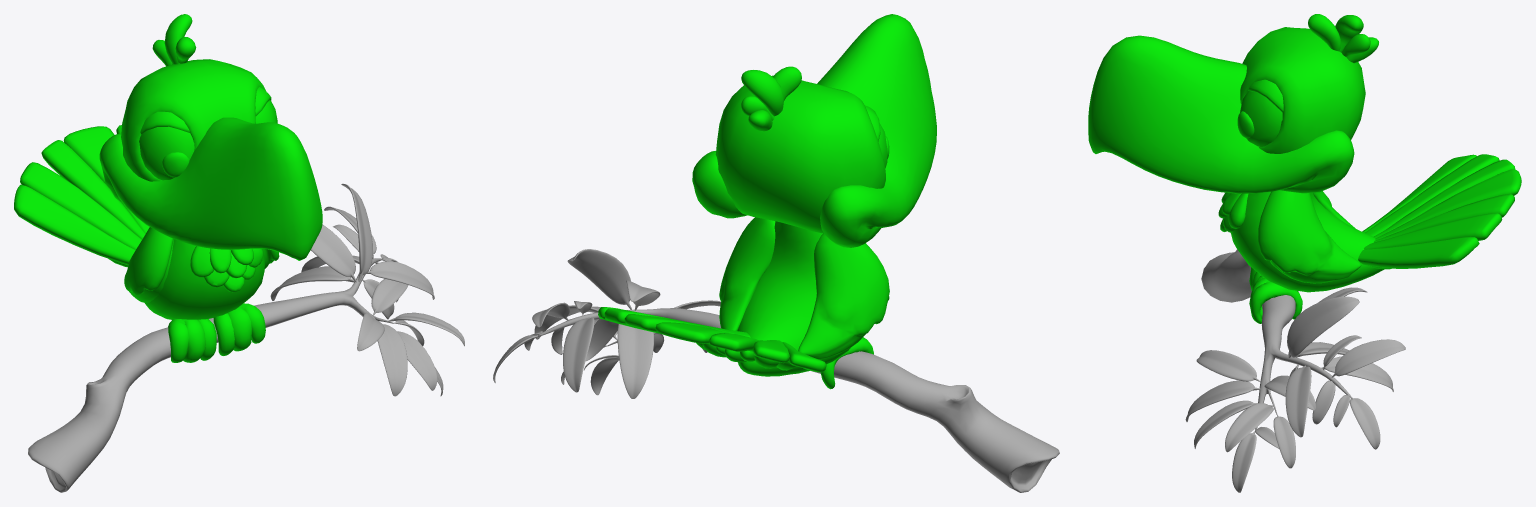
File: Bird.fbx
The picture shows the model from 3 angles, left to right: view 1: azimuth 30°, elevation 25°; view 2: azimuth 150°, elevation 25°; view 3: azimuth 270°, elevation 25°; orthographic projection. The views are drawn at different scales.
Parts seen in each view (by area): view 1: SM_Bird, SM_branch; view 2: SM_Bird, SM_branch; view 3: SM_Bird, SM_branch.
Part boxes in pixels (left/top/right/bottom): SM_Bird: left=14, top=14, right=322, bottom=362; SM_branch: left=28, top=183, right=464, bottom=492; SM_Bird: left=598, top=14, right=936, bottom=389; SM_branch: left=493, top=249, right=1059, bottom=492; SM_Bird: left=1088, top=14, right=1521, bottom=323; SM_branch: left=1185, top=249, right=1405, bottom=492.
Size of the model in its own units: 6.62 by 5.55 by 5.73.
